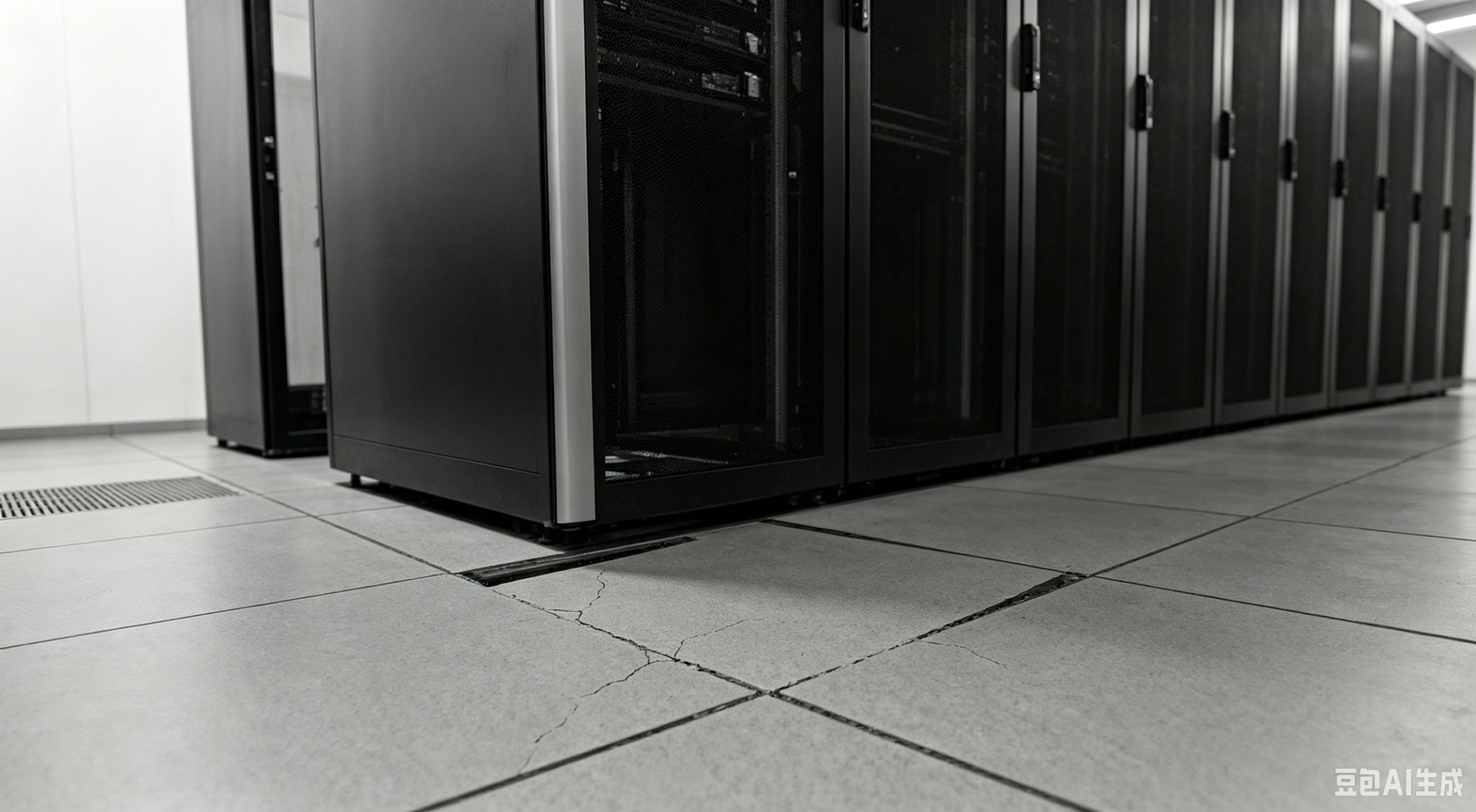floor_defect: (461, 528, 1082, 696)
